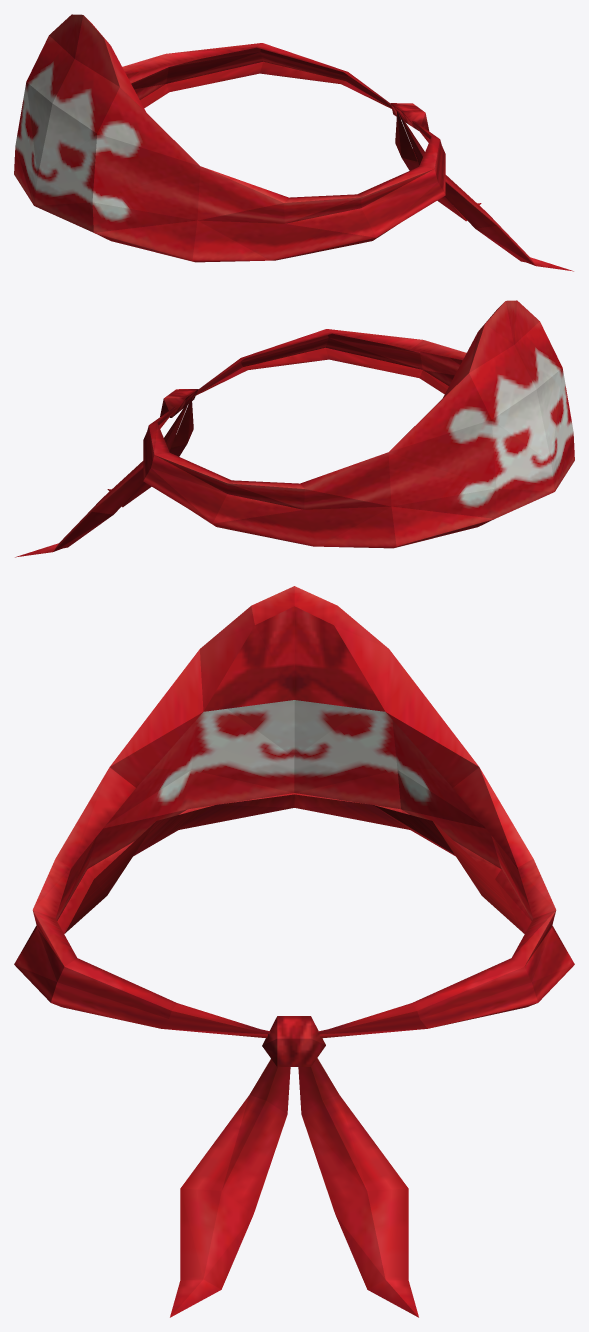
The model's file is Penguin_pirateBandana.obj.
3 views of the same model, one above another, from view 1: azimuth 30°, elevation 25°; view 2: azimuth 150°, elevation 25°; view 3: azimuth 270°, elevation 25° (orthographic). The views are drawn at different scales.
Visible parts, largest first — view 1: Penguin_pirateBandana_tri; view 2: Penguin_pirateBandana_tri; view 3: Penguin_pirateBandana_tri.
Part boxes in pixels (<box>): Penguin_pirateBandana_tri: <box>14,14,573,271</box>; Penguin_pirateBandana_tri: <box>15,300,574,557</box>; Penguin_pirateBandana_tri: <box>14,586,574,1317</box>.
Bounding box in the file's own units: 0.4543 × 0.2908 × 0.3344.
Materials: 1 (1 with a texture image).
